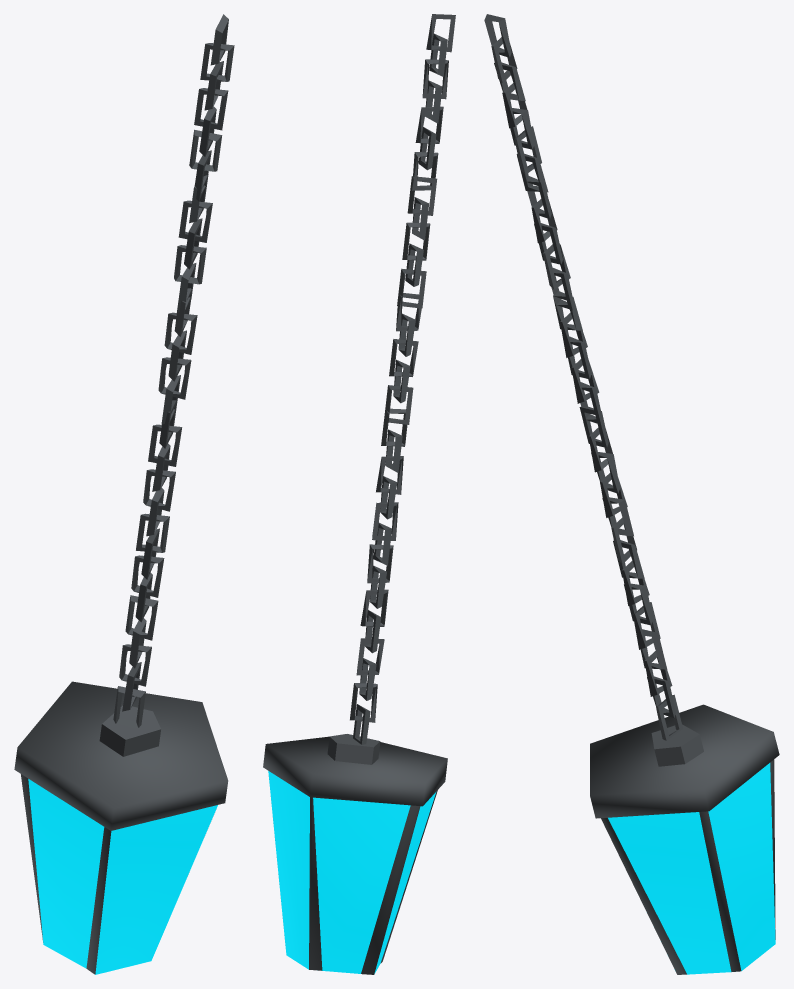
The model's file is Lamp1.glb.
3 renders of one model, left to right at view 1: azimuth 30°, elevation 25°; view 2: azimuth 150°, elevation 25°; view 3: azimuth 270°, elevation 25°, orthographic. The views are drawn at different scales.
Parts seen in each view (by area): view 1: Lamp3; view 2: Lamp3; view 3: Lamp3.
Part boxes in pixels (x1,y1,x2,y2): Lamp3: [14, 14, 234, 974]; Lamp3: [263, 14, 455, 974]; Lamp3: [484, 14, 779, 974].
Size of the model in its own units: 1.8 by 9.48 by 2.68.
